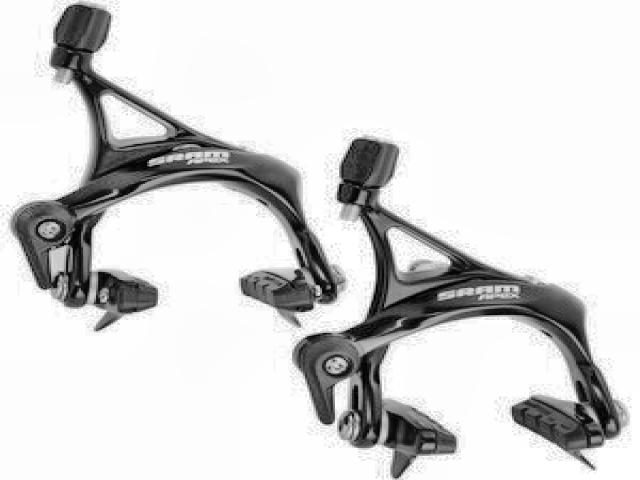rim_brake: (293, 133, 626, 478), (9, 2, 348, 332)
